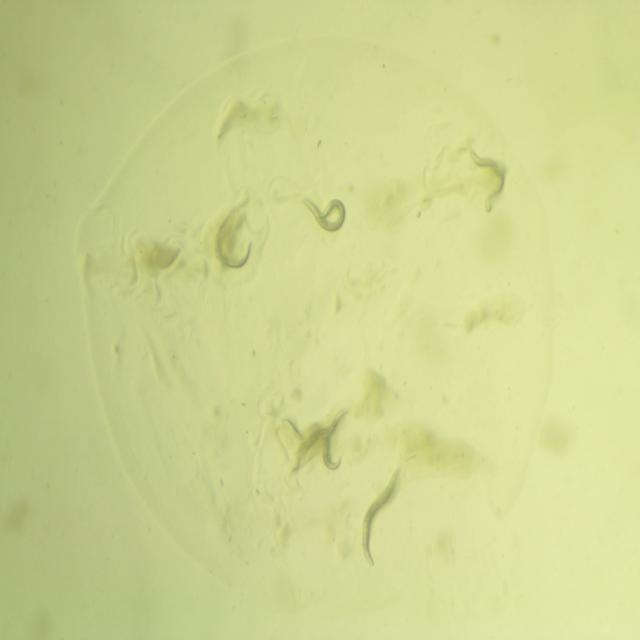worm: (352, 453, 411, 579), (284, 396, 356, 487), (207, 186, 268, 288), (269, 412, 346, 481), (459, 140, 519, 219), (288, 178, 356, 246)
